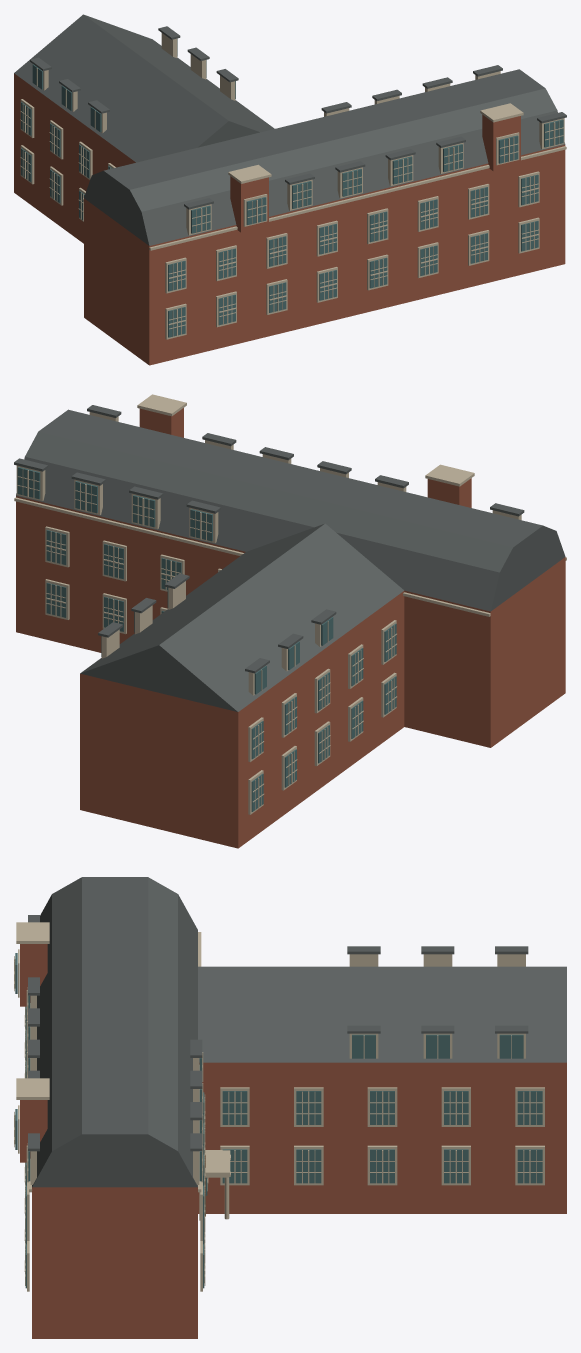
Rendered from susan-campbell-courtyard-exterior-2026-11-04.glb.
The picture shows the model from 3 angles, top to bottom: view 1: azimuth 30°, elevation 25°; view 2: azimuth 150°, elevation 25°; view 3: azimuth 270°, elevation 25°; orthographic projection. The views are drawn at different scales.
Visible parts, largest first — view 1: susan-part-0; view 2: susan-part-0; view 3: susan-part-0.
Part boxes in pixels (x1=…): susan-part-0: x1=14, y1=14, x2=566, y2=365; susan-part-0: x1=14, y1=394, x2=566, y2=848; susan-part-0: x1=14, y1=877, x2=566, y2=1338.
Size of the model in its own units: 33 by 12.7 by 29.98.
